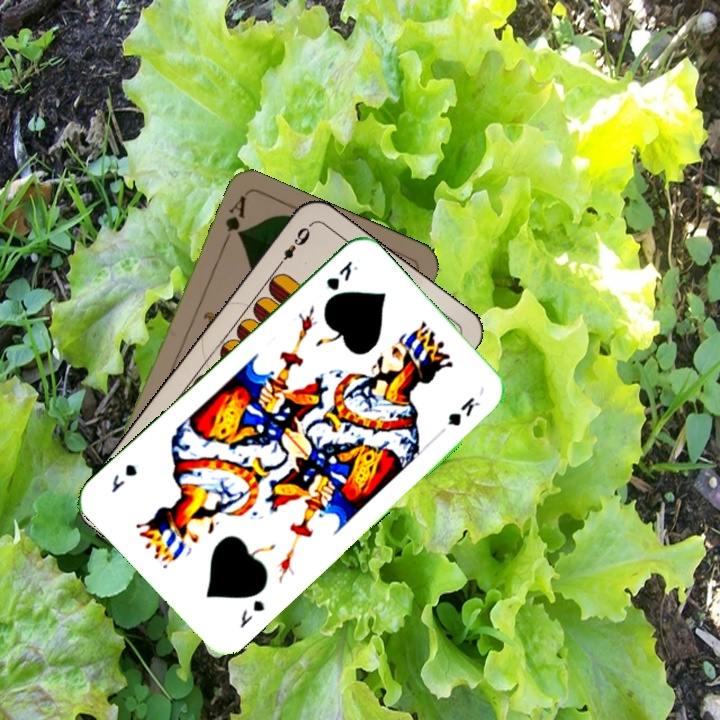E9: (272, 221, 314, 271)
GA: (218, 191, 249, 249)
GK: (321, 256, 361, 293), (235, 595, 268, 631)
